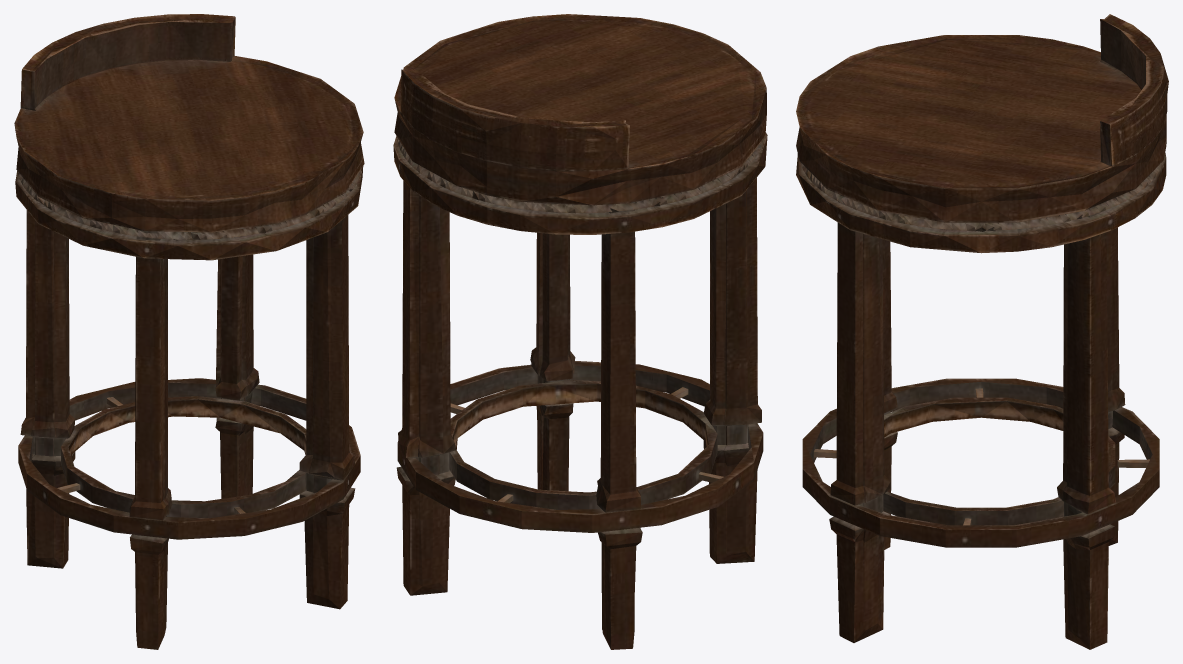
File: ph-bar-chair-round-01-lite.glb
3 renders of one model, left to right at view 1: azimuth 30°, elevation 25°; view 2: azimuth 150°, elevation 25°; view 3: azimuth 270°, elevation 25°, orthographic. The views are drawn at different scales.
Parts seen in each view (by area): view 1: bar_chair_round_01; view 2: bar_chair_round_01; view 3: bar_chair_round_01.
Boxes of the visible parts, x1=… form: bar_chair_round_01: x1=14, y1=14, x2=364, y2=649; bar_chair_round_01: x1=393, y1=14, x2=767, y2=649; bar_chair_round_01: x1=796, y1=14, x2=1168, y2=649.
Bounding box in the file's own units: 0.4819 × 0.7505 × 0.484.
Materials: 1 (1 with a texture image).
